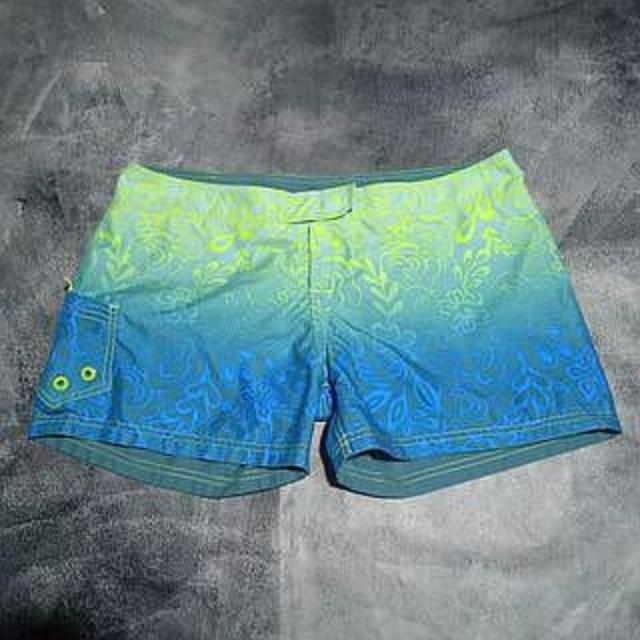SHORT: (19, 144, 633, 511)
